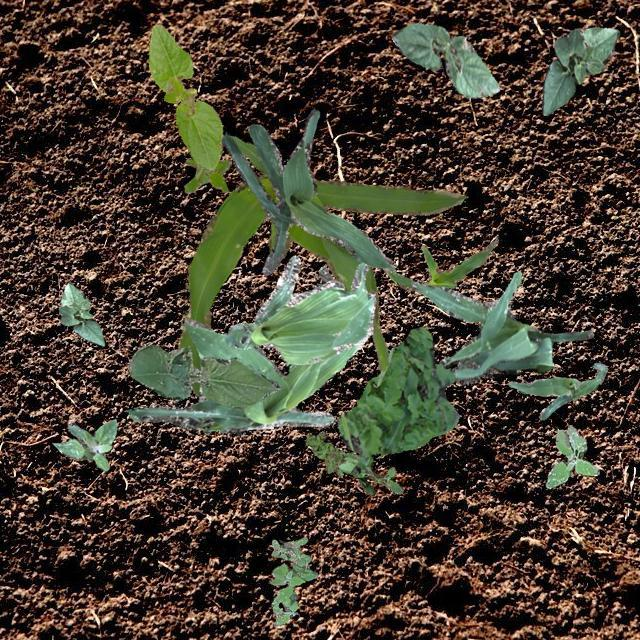crop: (178, 134, 467, 396), (125, 266, 362, 434), (220, 108, 394, 274), (410, 271, 592, 384), (224, 254, 376, 364), (146, 23, 222, 168), (128, 344, 280, 406), (392, 22, 498, 98), (542, 26, 618, 114), (382, 237, 496, 290), (508, 362, 606, 418), (58, 280, 104, 344)
weed: (336, 326, 458, 474), (268, 536, 316, 626), (544, 426, 598, 488), (52, 418, 116, 469), (336, 452, 402, 494), (304, 430, 344, 476), (182, 158, 230, 192)
